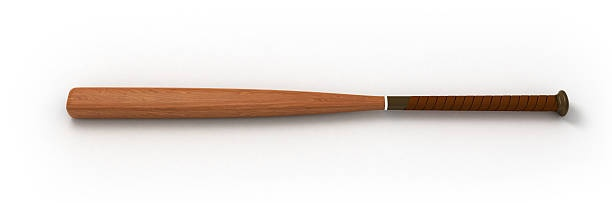bita: (65, 84, 558, 120)
